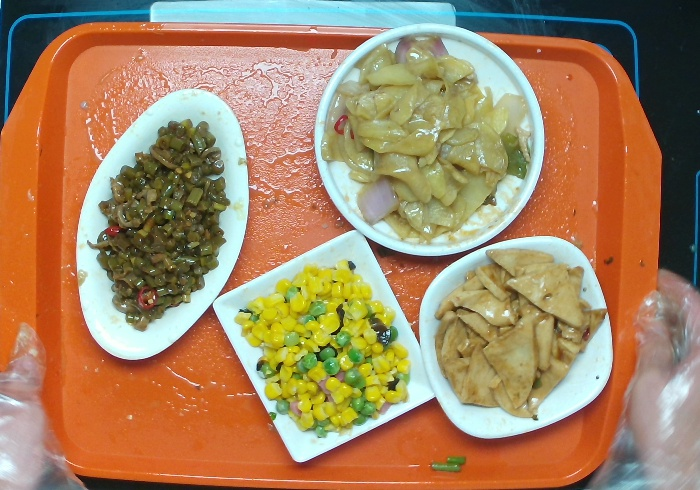HZYJPL-Si_Fang_Die: (213, 226, 439, 464)
HZYJPL-Si_Fang_Yuan_Die: (416, 232, 616, 441)
HZYJPL-Xiao_Yu_Die: (74, 86, 251, 361)
HZYJPL-Xiao_Yuan_Die: (310, 20, 548, 257)
